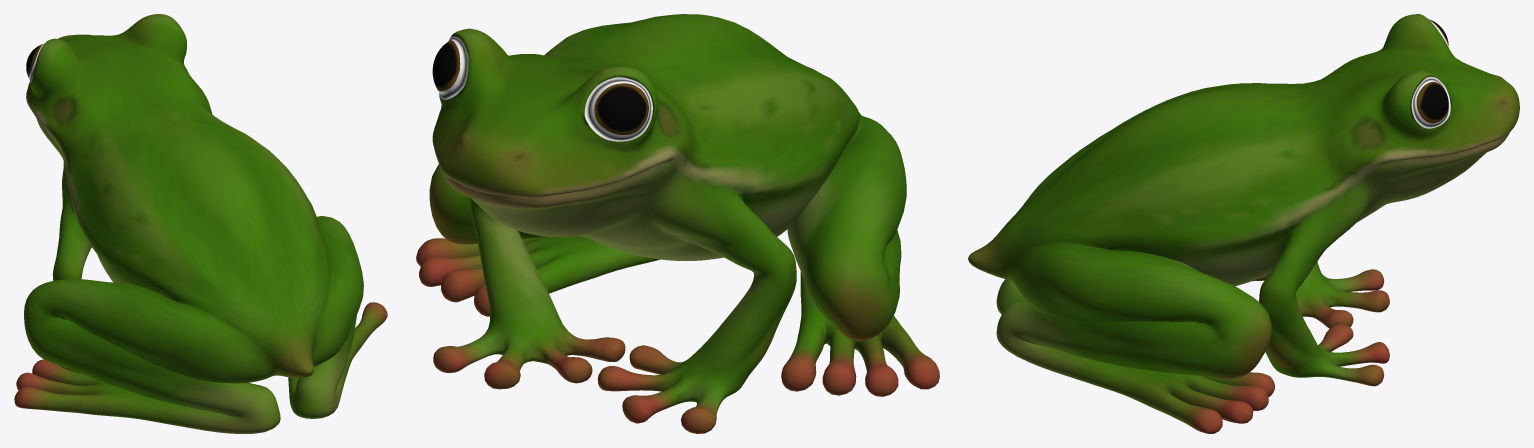
Rendered from PolyMesh3D_2.fbx.
3 views of the same model, side by side, from view 1: azimuth 30°, elevation 25°; view 2: azimuth 150°, elevation 25°; view 3: azimuth 270°, elevation 25° (orthographic). The views are drawn at different scales.
Parts seen in each view (by area): view 1: Frog; view 2: Frog, Eyes, eye_edge; view 3: Frog, Eyes, eye_edge.
Boxes of the visible parts, x1,y1,x2,y2 form: Frog: (14, 14, 387, 433); Frog: (416, 14, 939, 433); Eyes: (432, 40, 648, 134); eye_edge: (437, 36, 652, 141); Frog: (968, 14, 1519, 433); Eyes: (1416, 19, 1448, 123); eye_edge: (1411, 20, 1450, 128).
Size of the model in its own units: 2.64 by 1.82 by 3.11.
